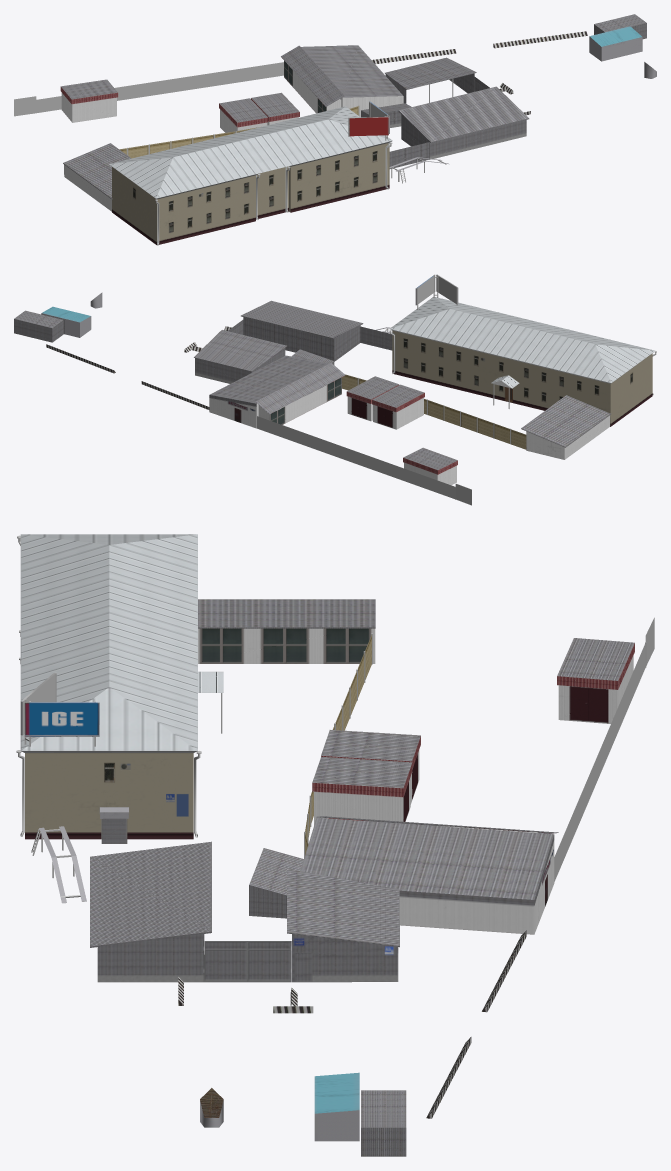
Rendered from Building 2.fbx.
3 views of the same model, one above another, from view 1: azimuth 30°, elevation 25°; view 2: azimuth 150°, elevation 25°; view 3: azimuth 270°, elevation 25° (orthographic). The views are drawn at different scales.
Parts seen in each view (by area): view 1: house_ostojenka_53_2:polySurface28, house_ostojenka_53_2:polySurface19, house_ostojenka_53_2:polySurface31, house_ostojenka_53_2:polySurface18, house_ostojenka_53_2:polySurface23, house_ostojenka_53_2:polySurface30, house_ostojenka_53_2:polySurface33, house_ostojenka_53_2:polySurface26, house_ostojenka_53_2:polySurface12, house_ostojenka_53_2:polySurface45, house_ostojenka_53_2:polySurface46, house_ostojenka_53_2:polySurface44 (+17 smaller); view 2: house_ostojenka_53_2:polySurface28, house_ostojenka_53_2:polySurface31, house_ostojenka_53_2:polySurface23, house_ostojenka_53_2:polySurface18, house_ostojenka_53_2:polySurface30, house_ostojenka_53_2:polySurface19, house_ostojenka_53_2:polySurface12, house_ostojenka_53_2:polySurface33, house_ostojenka_53_2:polySurface32, house_ostojenka_53_2:polySurface22, house_ostojenka_53_2:polySurface27, house_ostojenka_53_2:polySurface29 (+16 smaller); view 3: house_ostojenka_53_2:polySurface28, house_ostojenka_53_2:polySurface31, house_ostojenka_53_2:polySurface19, house_ostojenka_53_2:polySurface30, house_ostojenka_53_2:polySurface22, house_ostojenka_53_2:polySurface12, house_ostojenka_53_2:polySurface23, house_ostojenka_53_2:polySurface18, house_ostojenka_53_2:polySurface29, house_ostojenka_53_2:polySurface37, house_ostojenka_53_2:polySurface46, house_ostojenka_53_2:polySurface26 (+7 smaller).
Part boxes in pixels (<box>): house_ostojenka_53_2:polySurface28: <box>109,106,392,244</box>; house_ostojenka_53_2:polySurface19: <box>398,86,529,142</box>; house_ostojenka_53_2:polySurface31: <box>301,45,403,116</box>; house_ostojenka_53_2:polySurface18: <box>401,114,526,159</box>; house_ostojenka_53_2:polySurface23: <box>63,143,131,199</box>; house_ostojenka_53_2:polySurface30: <box>385,57,476,89</box>; house_ostojenka_53_2:polySurface33: <box>281,45,344,106</box>; house_ostojenka_53_2:polySurface26: <box>589,26,642,61</box>; house_ostojenka_53_2:polySurface12: <box>119,77,489,171</box>; house_ostojenka_53_2:polySurface45: <box>61,93,116,122</box>; house_ostojenka_53_2:polySurface46: <box>60,79,118,104</box>; house_ostojenka_53_2:polySurface44: <box>219,98,268,127</box>; house_ostojenka_53_2:polySurface28: <box>390,297,655,426</box>; house_ostojenka_53_2:polySurface31: <box>209,355,328,428</box>; house_ostojenka_53_2:polySurface23: <box>521,395,611,447</box>; house_ostojenka_53_2:polySurface18: <box>243,317,360,361</box>; house_ostojenka_53_2:polySurface30: <box>194,330,287,371</box>; house_ostojenka_53_2:polySurface19: <box>241,300,363,338</box>; house_ostojenka_53_2:polySurface12: <box>228,320,526,449</box>; house_ostojenka_53_2:polySurface33: <box>255,363,345,414</box>; house_ostojenka_53_2:polySurface32: <box>258,377,341,424</box>; house_ostojenka_53_2:polySurface22: <box>526,415,610,459</box>; house_ostojenka_53_2:polySurface27: <box>14,310,63,342</box>; house_ostojenka_53_2:polySurface29: <box>195,348,285,383</box>; house_ostojenka_53_2:polySurface28: <box>20,534,197,839</box>; house_ostojenka_53_2:polySurface31: <box>300,817,554,934</box>; house_ostojenka_53_2:polySurface19: <box>90,841,211,947</box>; house_ostojenka_53_2:polySurface30: <box>287,868,399,947</box>; house_ostojenka_53_2:polySurface22: <box>198,628,375,663</box>; house_ostojenka_53_2:polySurface12: <box>39,634,371,982</box>; house_ostojenka_53_2:polySurface23: <box>198,599,375,628</box>; house_ostojenka_53_2:polySurface18: <box>97,934,204,982</box>; house_ostojenka_53_2:polySurface29: <box>292,934,398,982</box>; house_ostojenka_53_2:polySurface37: <box>312,756,412,797</box>; house_ostojenka_53_2:polySurface46: <box>557,638,634,689</box>; house_ostojenka_53_2:polySurface26: <box>314,1072,359,1141</box>.
Size of the model in its own units: 100 by 11.97 by 50.62.
